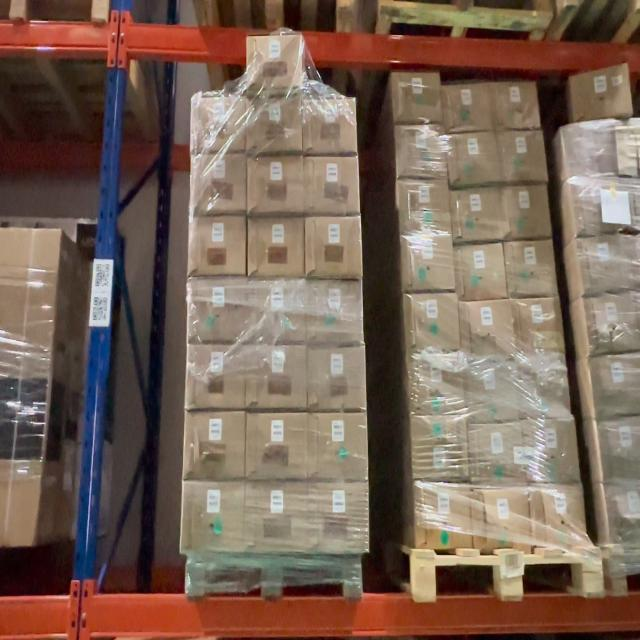box: (247, 483, 308, 552), (185, 483, 243, 550), (310, 484, 368, 551), (311, 414, 367, 480), (249, 414, 306, 478), (187, 413, 244, 477), (310, 348, 366, 410), (250, 280, 305, 342), (417, 485, 471, 548), (190, 347, 246, 407), (414, 416, 467, 479), (250, 346, 305, 406), (308, 282, 362, 343), (192, 216, 248, 274), (191, 281, 246, 340), (574, 179, 634, 233), (476, 491, 532, 548), (308, 217, 360, 277), (250, 219, 304, 275), (250, 158, 304, 214), (248, 35, 302, 91), (194, 155, 247, 211), (307, 158, 359, 214), (526, 421, 574, 481), (195, 97, 247, 152), (408, 293, 458, 350), (588, 295, 638, 352), (474, 425, 523, 483), (536, 488, 585, 546), (412, 356, 463, 411), (303, 101, 355, 154), (469, 366, 518, 422), (582, 239, 632, 292), (252, 97, 301, 150), (597, 355, 640, 415), (464, 302, 510, 358), (521, 358, 566, 415), (514, 298, 560, 353), (404, 240, 452, 292), (401, 181, 449, 233), (452, 189, 500, 241), (576, 72, 628, 119), (449, 135, 496, 186), (502, 185, 547, 237), (395, 72, 440, 122), (508, 244, 552, 295), (604, 420, 640, 482), (567, 128, 613, 176), (400, 129, 444, 178), (458, 248, 502, 296), (501, 132, 543, 179), (494, 82, 536, 128), (444, 87, 489, 129), (611, 485, 640, 545), (617, 122, 639, 176)
